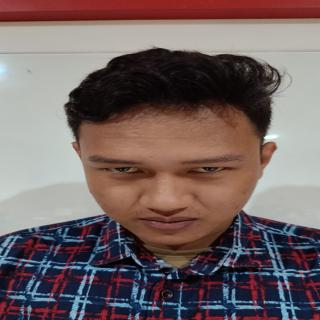Marah: (70, 92, 270, 259)
